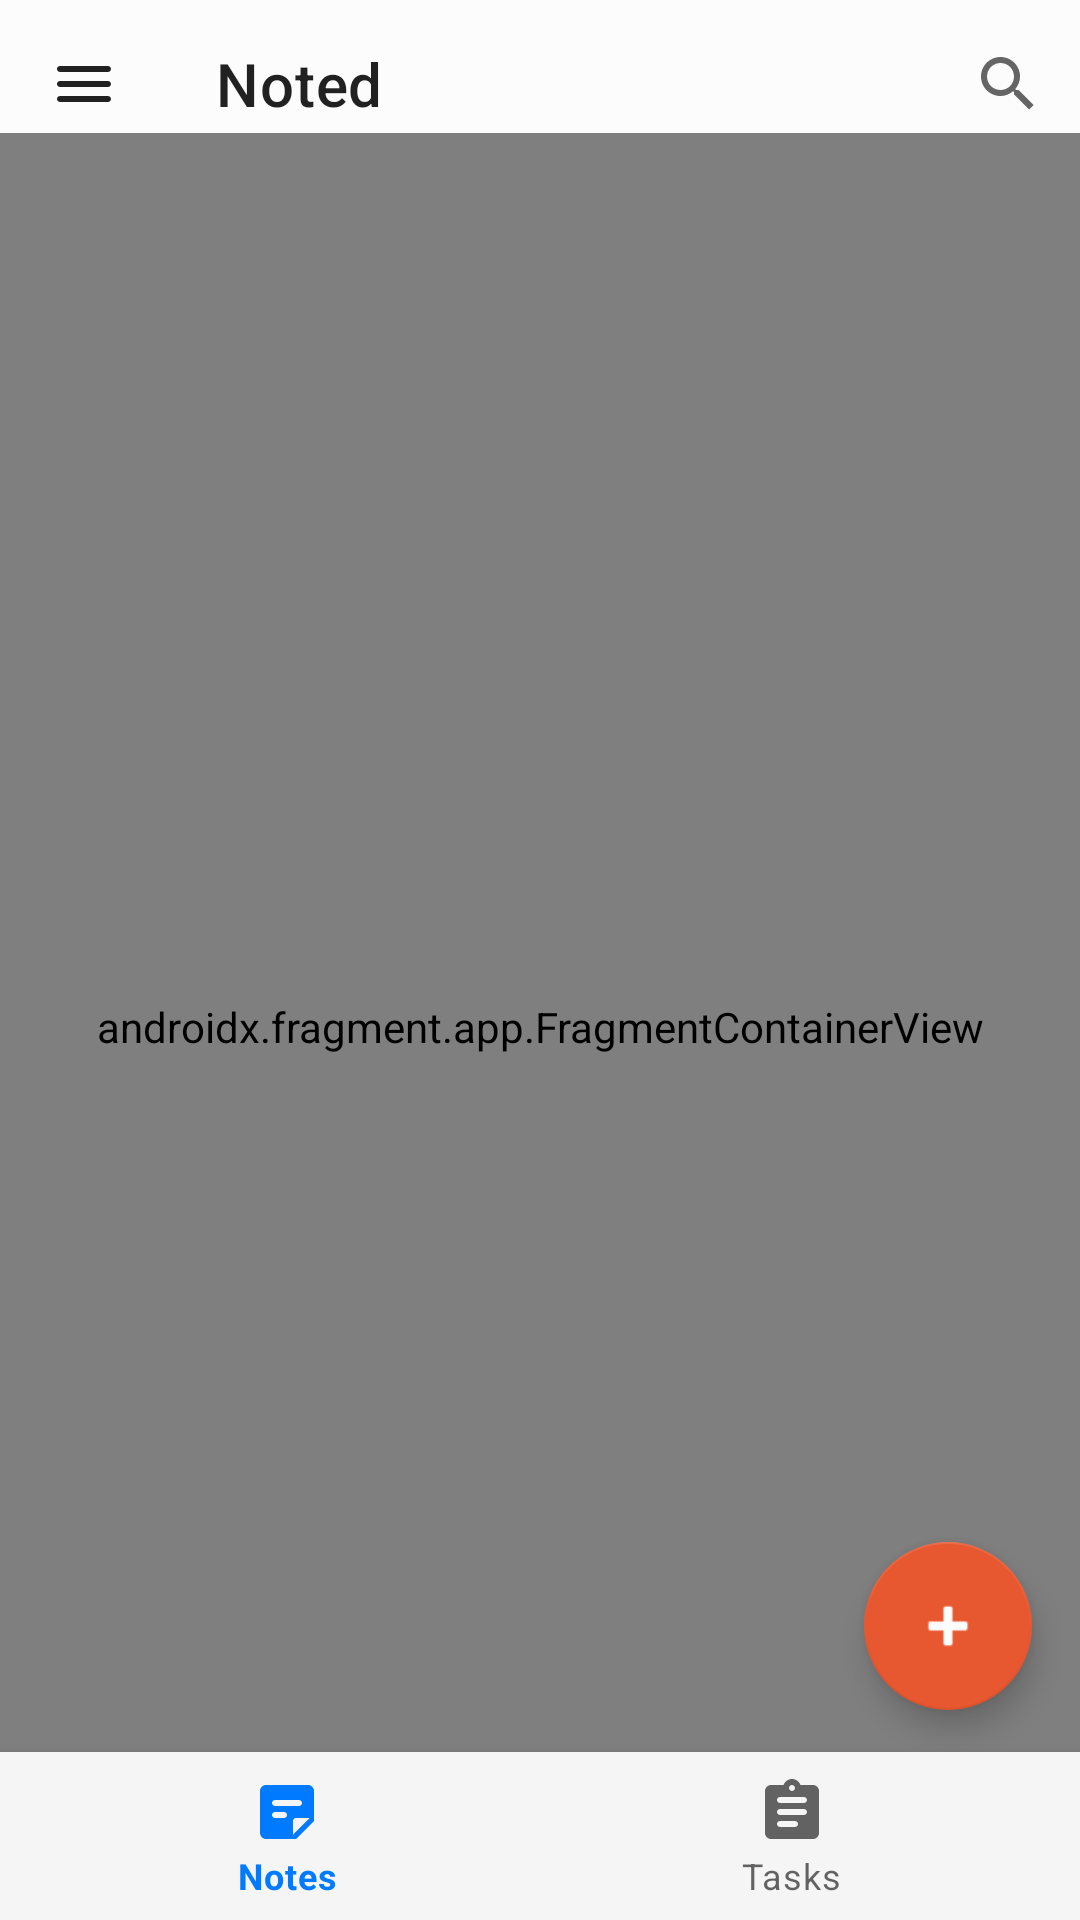

Screen size 1080px×1920px. Icon name, then its center in pixels as point (x, y):
Add: point (948, 1626)
